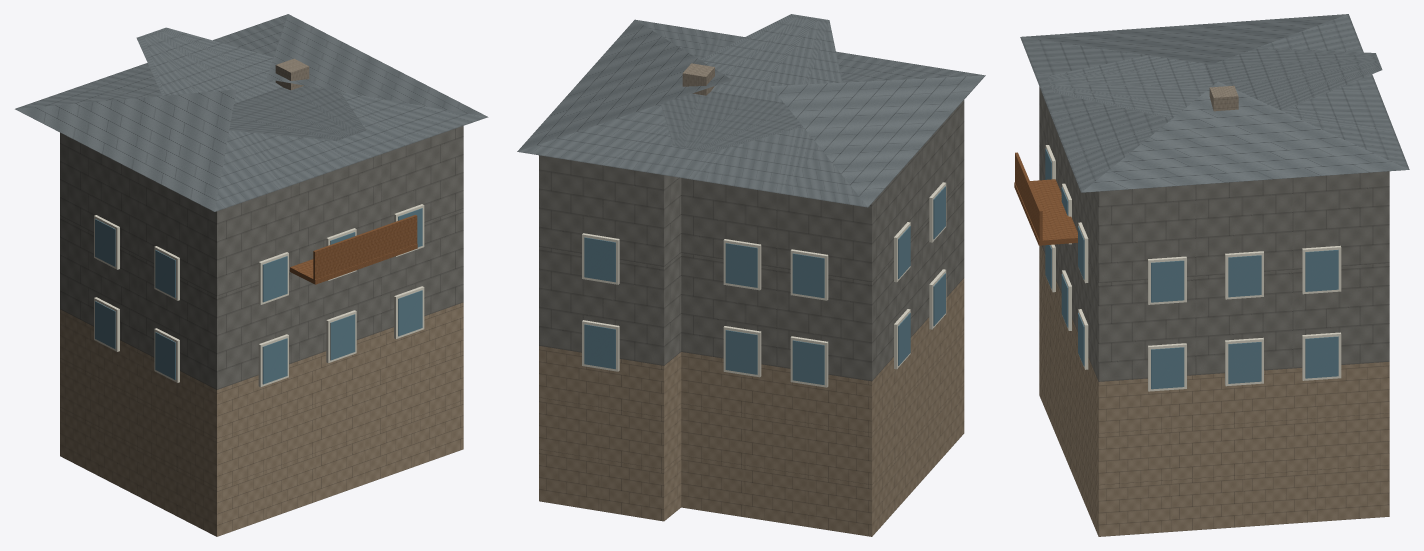
Rendered from core_0069.gltf.
3 renders of one model, left to right at view 1: azimuth 30°, elevation 25°; view 2: azimuth 150°, elevation 25°; view 3: azimuth 270°, elevation 25°, orthographic. The views are drawn at different scales.
Parts seen in each view (by area): view 1: core_0069; view 2: core_0069; view 3: core_0069.
Part boxes in pixels (box(x1,y1,x2,y2)): core_0069: box(15, 14, 488, 536); core_0069: box(517, 14, 985, 536); core_0069: box(1014, 14, 1409, 536).
Bounding box in the file's own units: 12.61 × 12.75 × 11.79.
Materials: 7 (7 with a texture image).
